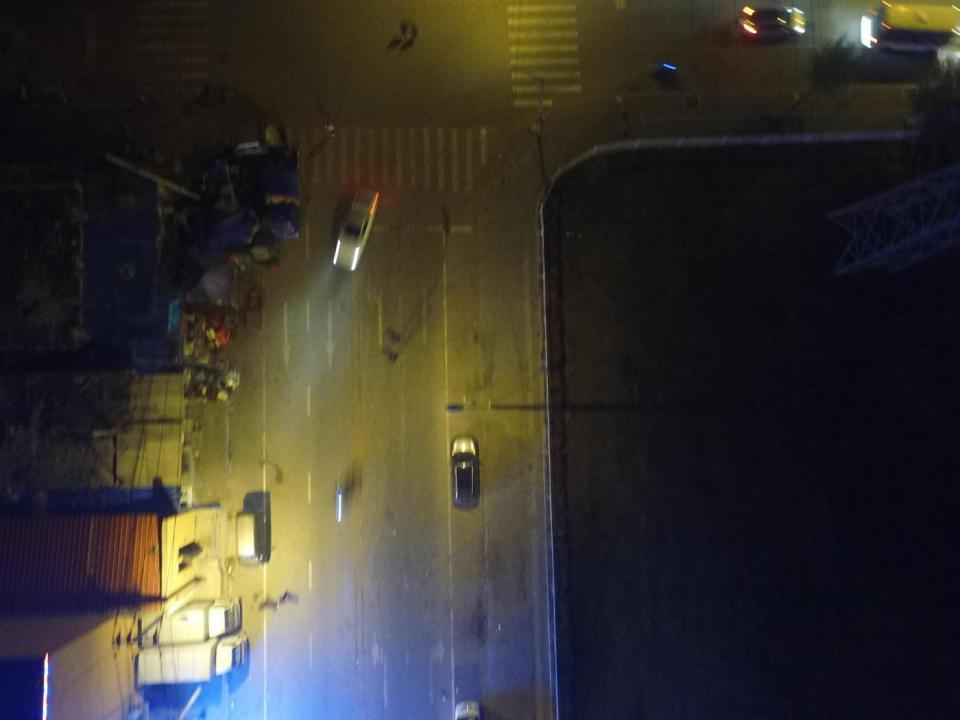car: (332, 186, 378, 270), (450, 436, 480, 508)
truck: (265, 147, 299, 240), (230, 126, 290, 157)
van: (235, 512, 266, 567)
